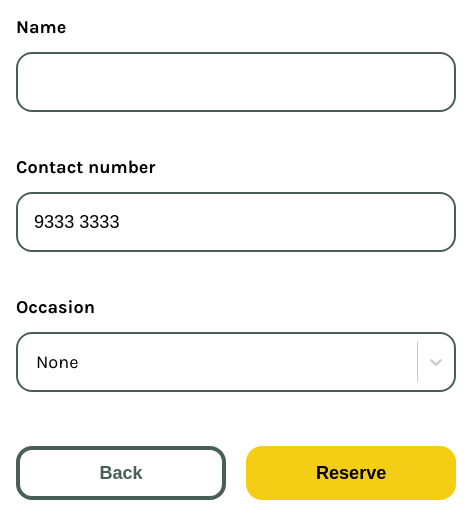
Scenario: BookingFormStepTwo › SHOULD produce name error message WHEN name input value is NOT valid
The image size is (473, 517).
Click the button "Reserve" at (351, 473), box [246,446,456,500]
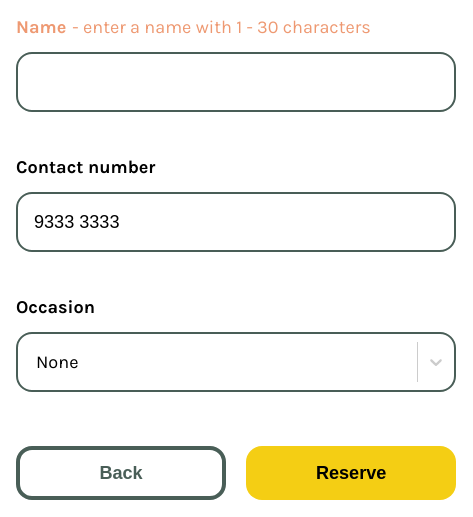
Expected: the text "enter a name with 1 - 30 characters" is shown, [72,16,371,38]
